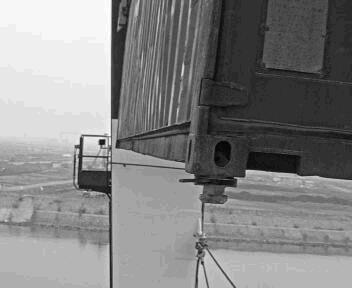twist_lock_1: (190, 174, 246, 214)
